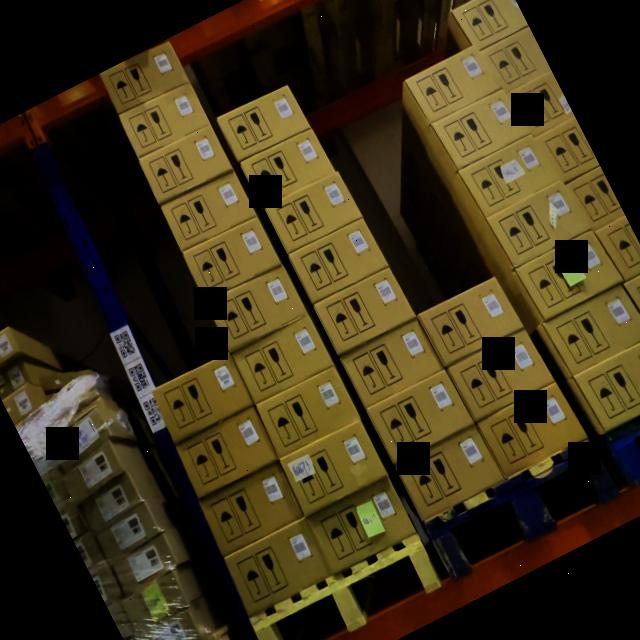box: (394, 423, 505, 521), (479, 381, 588, 478), (338, 316, 448, 412), (365, 368, 475, 464), (254, 364, 364, 460), (307, 478, 417, 574), (281, 420, 389, 514), (224, 520, 332, 614), (312, 264, 418, 358), (450, 327, 556, 421), (230, 314, 336, 407), (518, 230, 623, 322), (421, 275, 524, 366), (151, 351, 254, 442), (181, 214, 285, 304), (200, 464, 302, 555), (206, 266, 308, 354), (176, 408, 277, 496), (290, 216, 390, 304), (545, 283, 640, 375), (488, 181, 588, 267), (462, 133, 560, 220), (266, 168, 364, 254), (160, 169, 258, 253), (434, 86, 530, 170), (408, 42, 503, 125), (241, 127, 337, 208), (138, 126, 233, 207), (218, 84, 312, 164), (117, 82, 210, 161), (100, 38, 191, 115), (576, 333, 640, 431), (41, 404, 116, 468), (509, 70, 575, 138), (484, 27, 552, 93), (124, 572, 194, 634), (111, 534, 180, 594), (59, 440, 127, 500), (94, 502, 164, 560), (78, 474, 146, 532), (454, 0, 528, 50), (540, 122, 599, 184), (569, 167, 624, 228), (2, 382, 47, 427), (140, 613, 208, 640), (90, 564, 124, 606), (0, 358, 34, 399), (74, 530, 108, 570), (58, 500, 92, 540), (42, 469, 75, 509), (0, 325, 24, 372)
